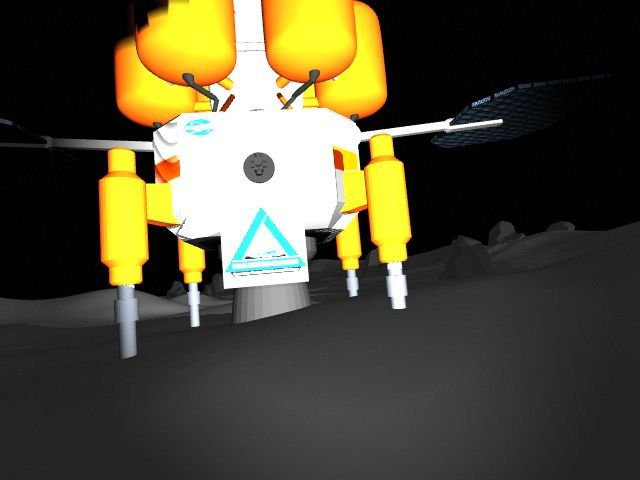basemarker: (224, 206, 308, 277)
